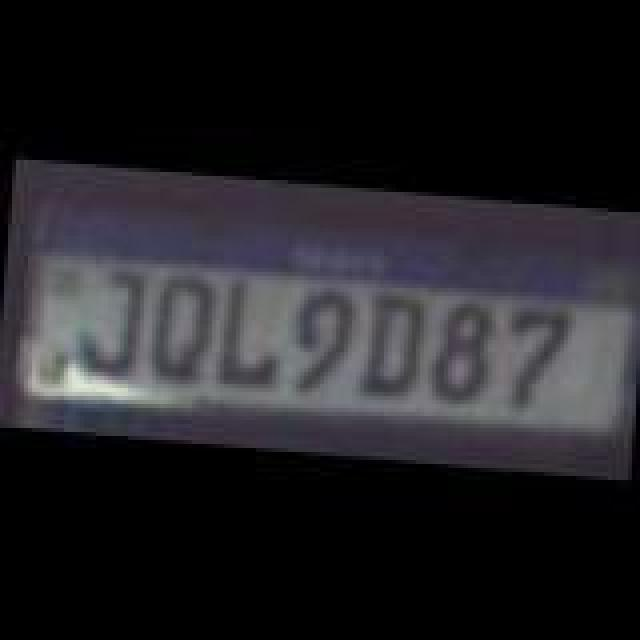7: (502, 302, 570, 418)
8: (432, 290, 496, 406)
9: (284, 278, 356, 394)
D: (360, 280, 424, 400)
J: (68, 268, 140, 380)
L: (214, 270, 282, 386)
Q: (152, 270, 216, 386)
